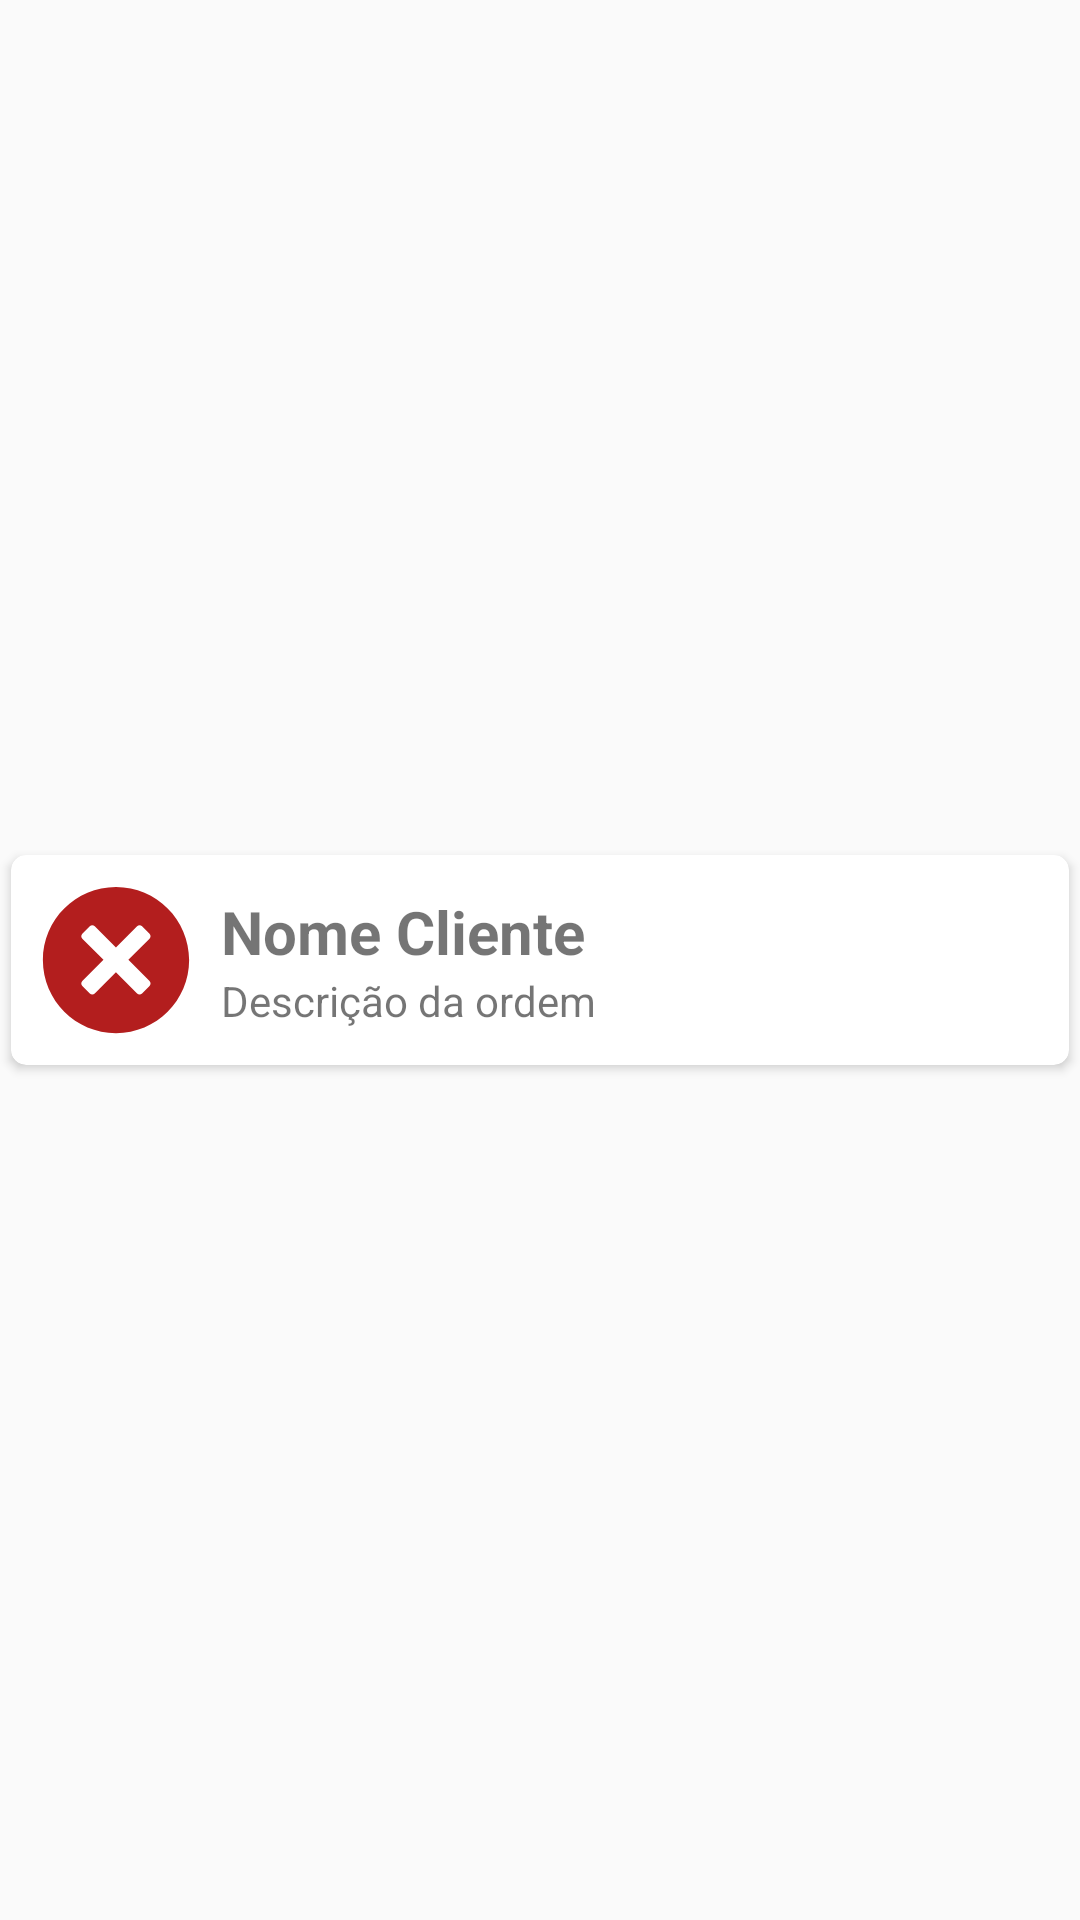

Screen size 1080 × 1920. Icon name, then its center in pixels as (x=x, y=y):
cancel: (x=115, y=960)
